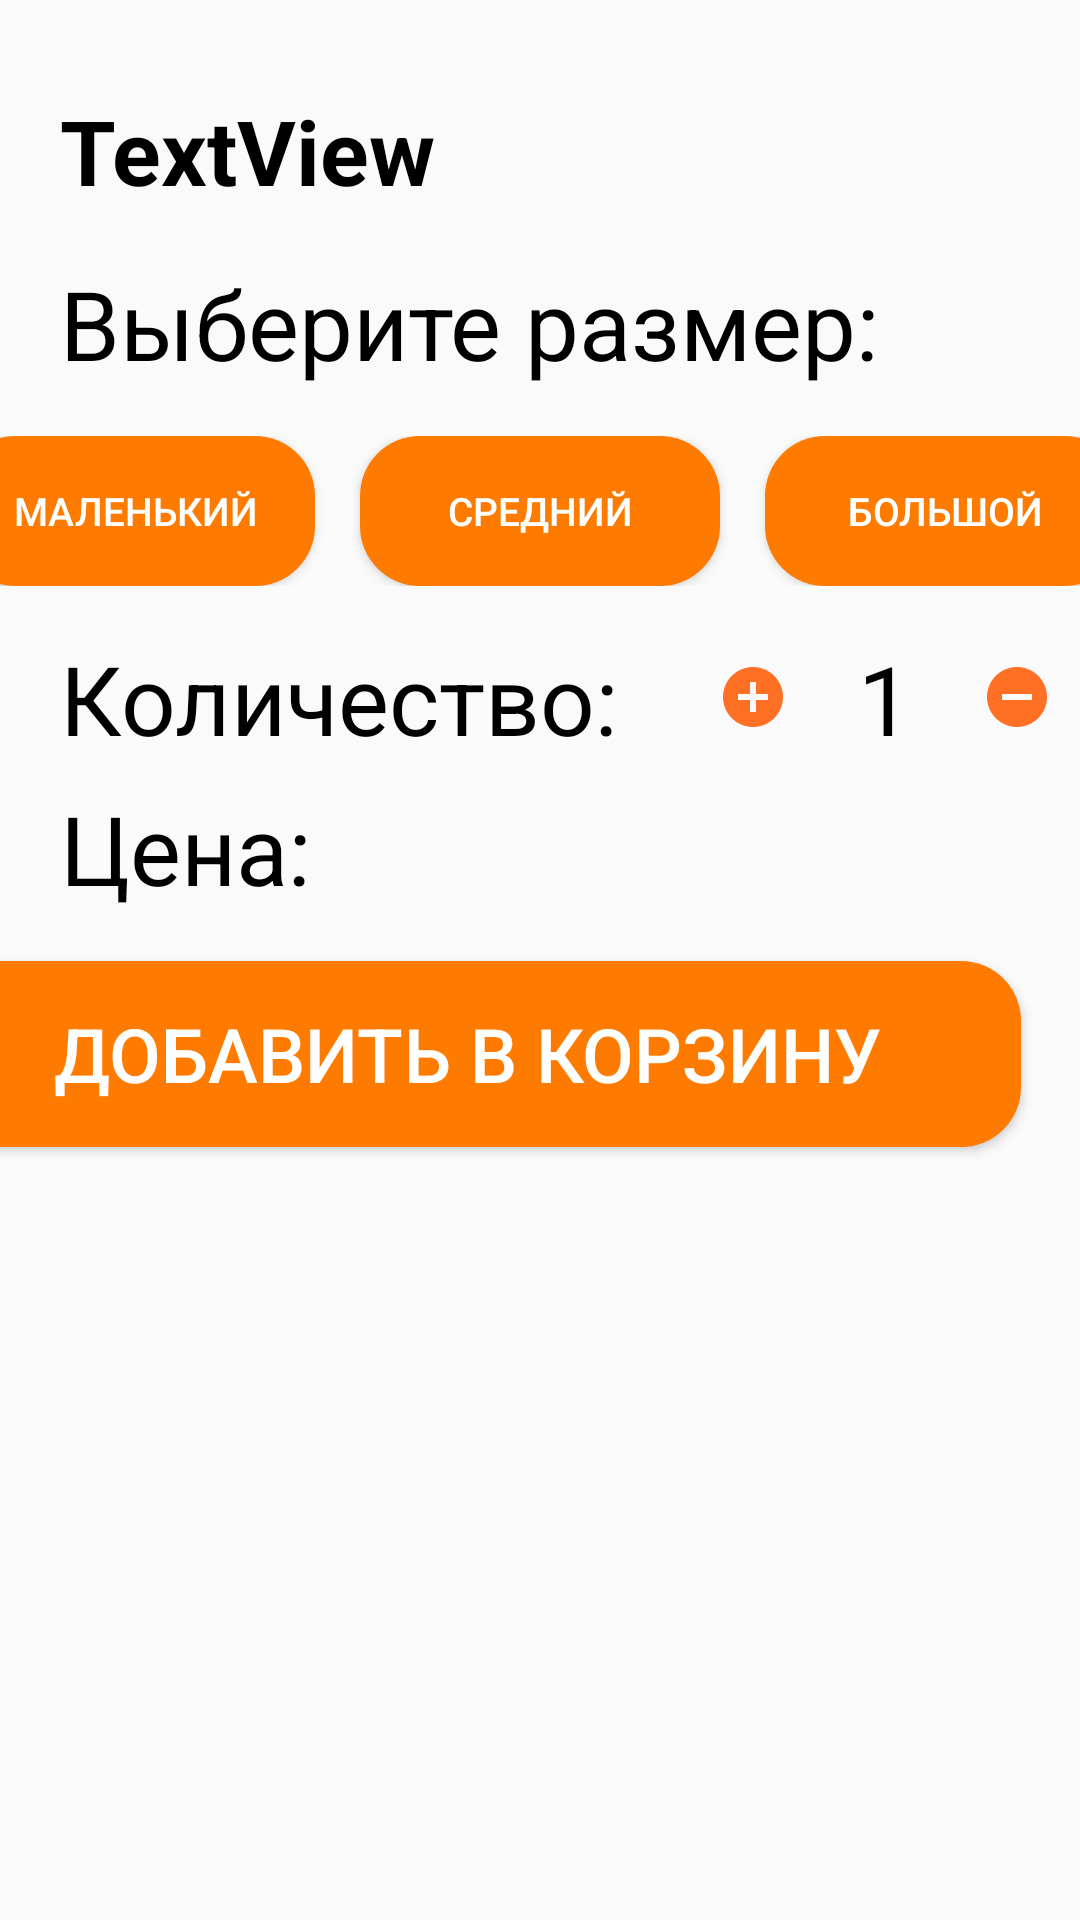

Locate icon controls on the screen. Image size 1080 x 1920, boxes as (x1, y1, x2, y2).
add circle: (723, 667, 783, 727)
remove circle: (987, 667, 1047, 727)
